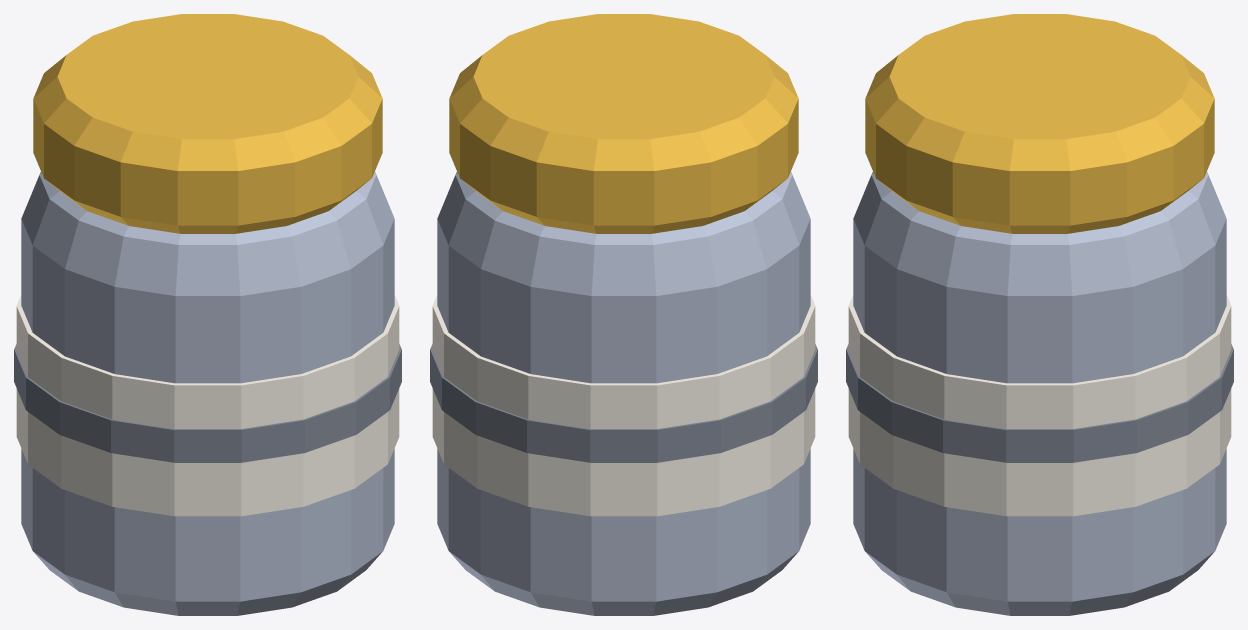
Rendered from jar.glb.
3 views of the same model, side by side, from view 1: azimuth 30°, elevation 25°; view 2: azimuth 150°, elevation 25°; view 3: azimuth 270°, elevation 25° (orthographic).
Visible parts, largest first — view 1: jar; view 2: jar; view 3: jar.
Boxes of the visible parts, x1,y1,x2,y2 form: jar: (14,14,401,615); jar: (430,14,817,615); jar: (846,14,1233,615).
Bounding box in the file's own units: 0.6342 × 0.86 × 0.644.
